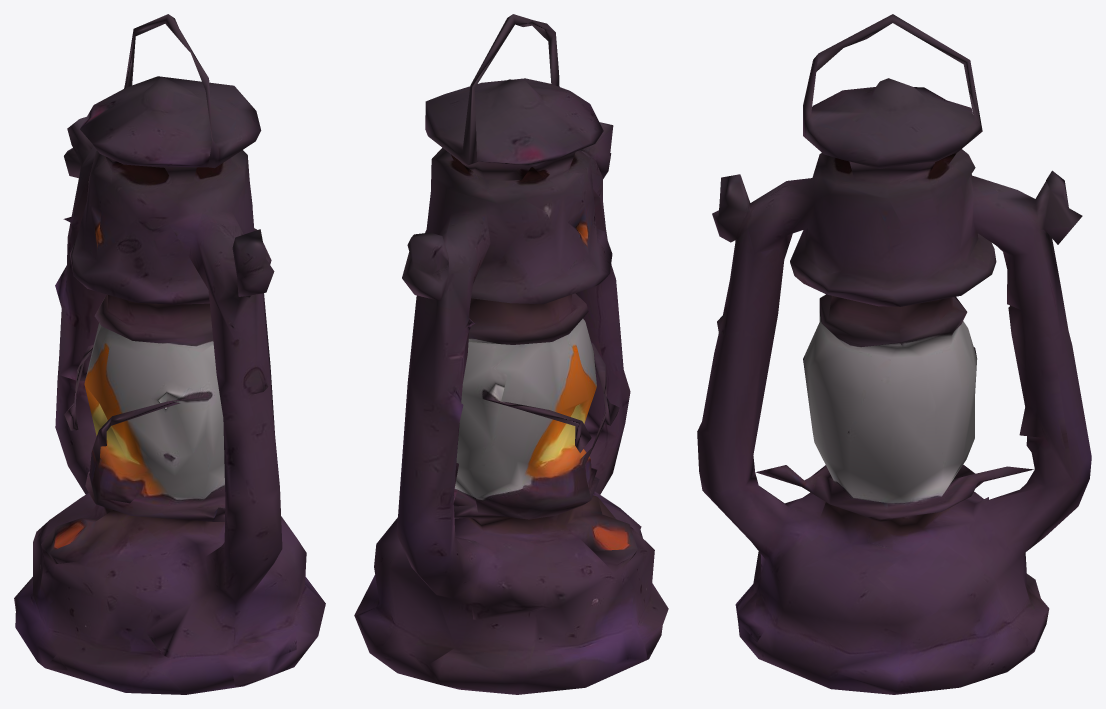
File: relic-lantern.glb
The picture shows the model from 3 angles, left to right: view 1: azimuth 30°, elevation 25°; view 2: azimuth 150°, elevation 25°; view 3: azimuth 270°, elevation 25°; orthographic projection.
Parts seen in each view (by area): view 1: tripo_node_1f4f6bca-7a10-4e1a-9093-448becdcb148; view 2: tripo_node_1f4f6bca-7a10-4e1a-9093-448becdcb148; view 3: tripo_node_1f4f6bca-7a10-4e1a-9093-448becdcb148.
Part boxes in pixels (bbox=[...]): tripo_node_1f4f6bca-7a10-4e1a-9093-448becdcb148: bbox=[14, 14, 325, 694]; tripo_node_1f4f6bca-7a10-4e1a-9093-448becdcb148: bbox=[354, 14, 668, 694]; tripo_node_1f4f6bca-7a10-4e1a-9093-448becdcb148: bbox=[697, 14, 1091, 694].
Bounding box in the file's own units: 0.4536 × 1 × 0.5781.
1 material, 1 textured.
